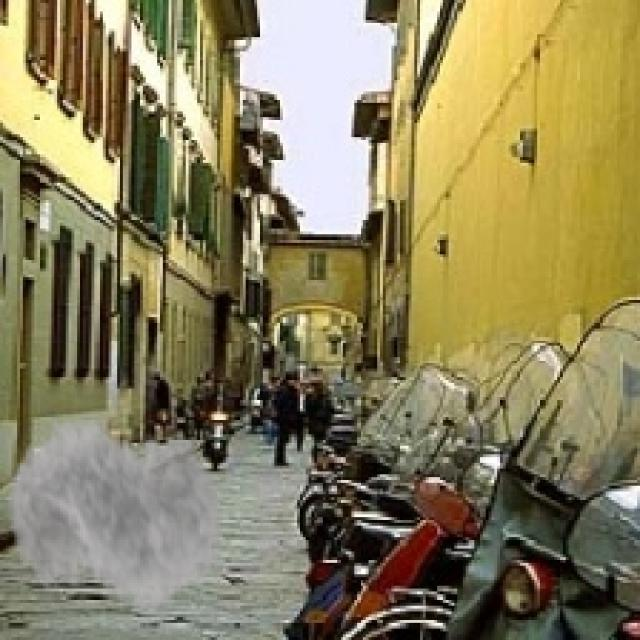smoke: (6, 392, 226, 632)
